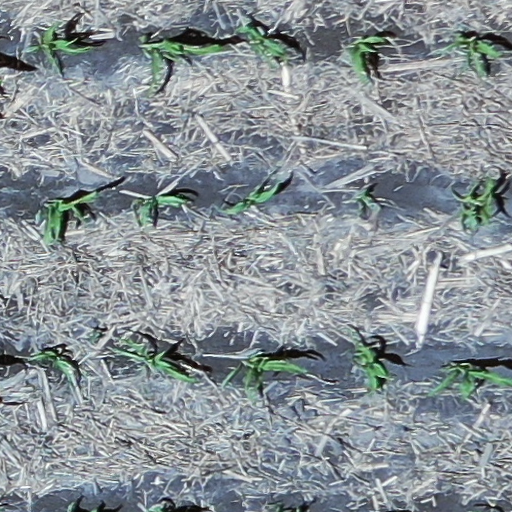planta: (103, 337, 201, 389), (144, 37, 225, 93), (34, 189, 102, 249), (242, 354, 316, 408), (424, 362, 511, 401), (442, 32, 509, 80), (213, 174, 282, 214), (29, 23, 90, 67), (449, 177, 496, 234), (131, 195, 193, 229), (354, 344, 397, 392), (349, 35, 393, 81), (238, 23, 287, 60), (25, 349, 69, 375)
